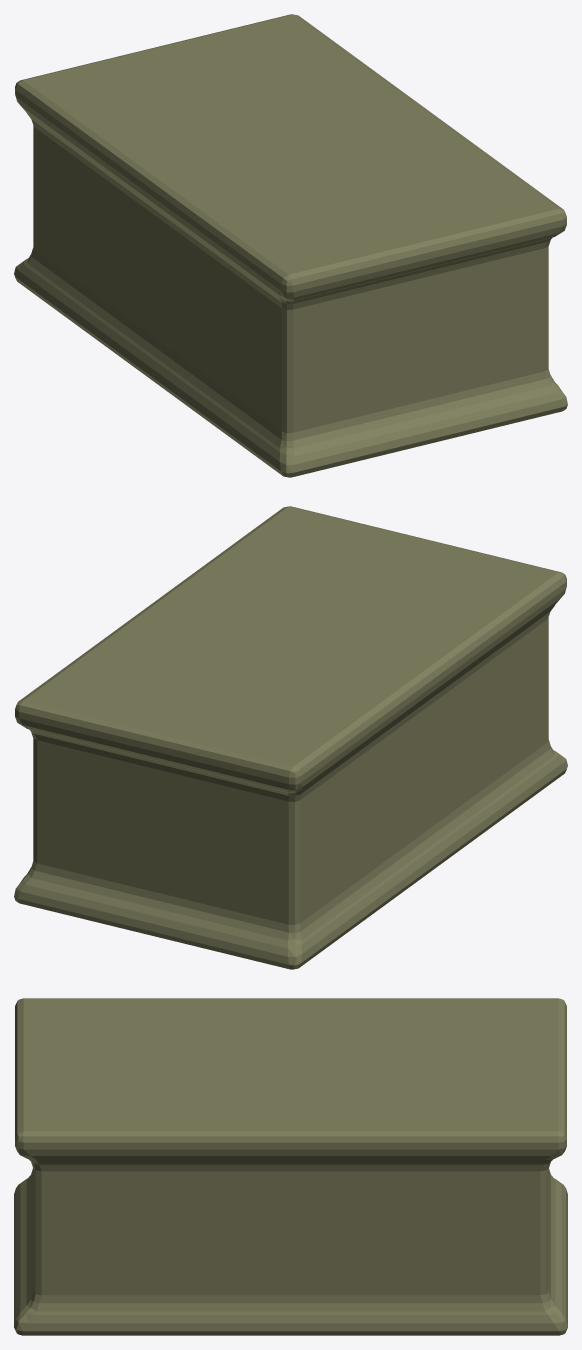
File: altar02.fbx
The picture shows the model from 3 angles, top to bottom: view 1: azimuth 30°, elevation 25°; view 2: azimuth 150°, elevation 25°; view 3: azimuth 270°, elevation 25°; orthographic projection.
Visible parts, largest first — view 1: Altar02; view 2: Altar02; view 3: Altar02.
Part boxes in pixels (x1,y1,x2,y2): Altar02: (14, 14, 567, 477); Altar02: (14, 506, 567, 969); Altar02: (14, 998, 567, 1335).
Size of the model in its own units: 0.1661 by 0.1124 by 0.2768.
